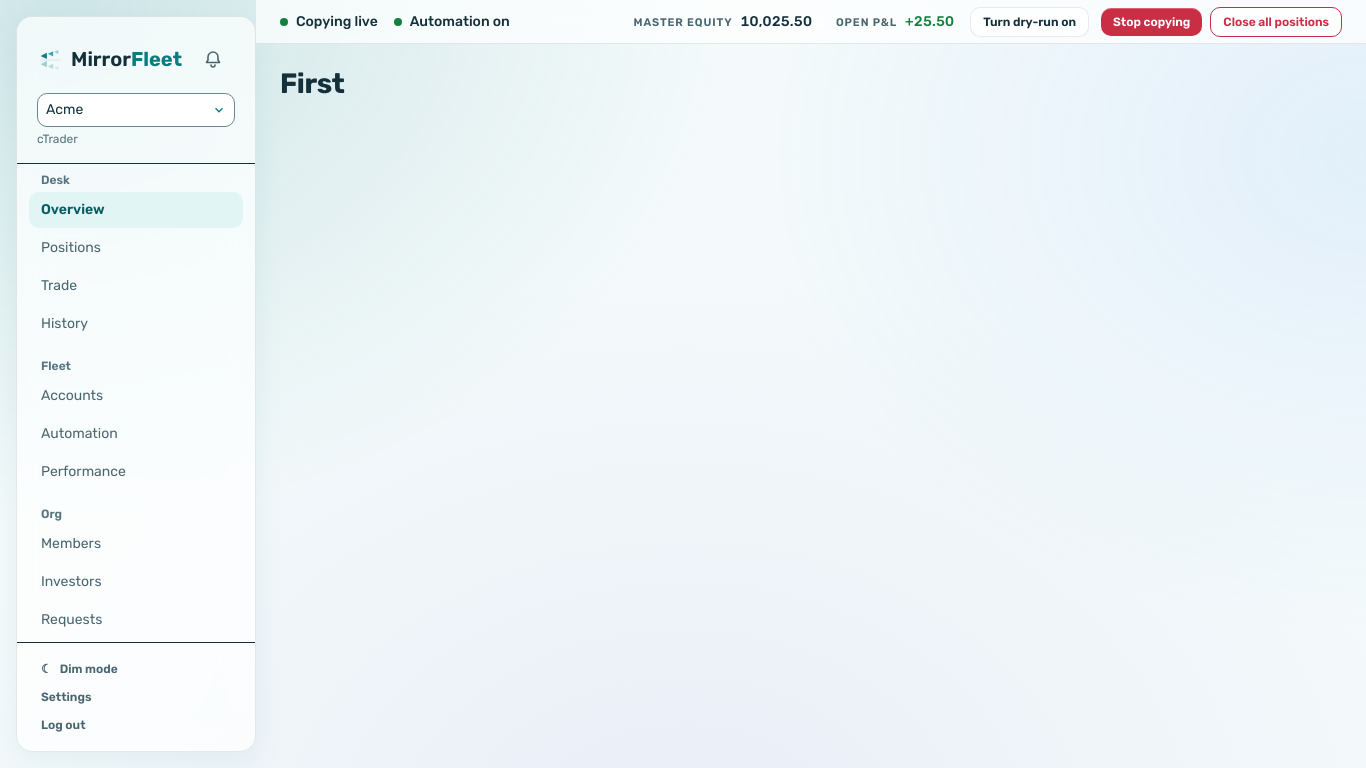
Test: a navigation mounts the entering page once, not twice
The image size is (1366, 768).
Expected: the heading "First" is shown, [280, 68, 344, 100]
Click the link "Positions" at (71, 248), box [41, 239, 101, 256]
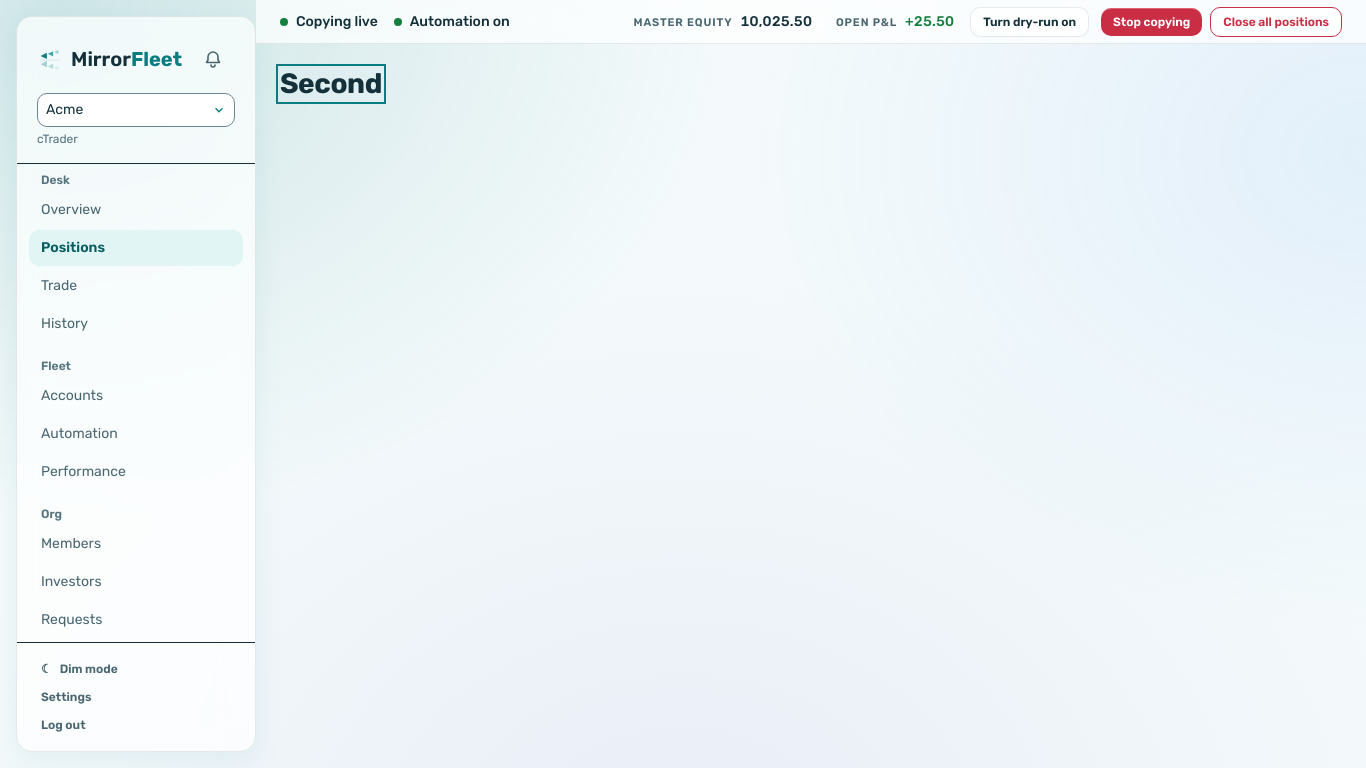
Result: the heading "Second" is shown at [280, 68, 382, 100]
Result: the heading "First" is gone
